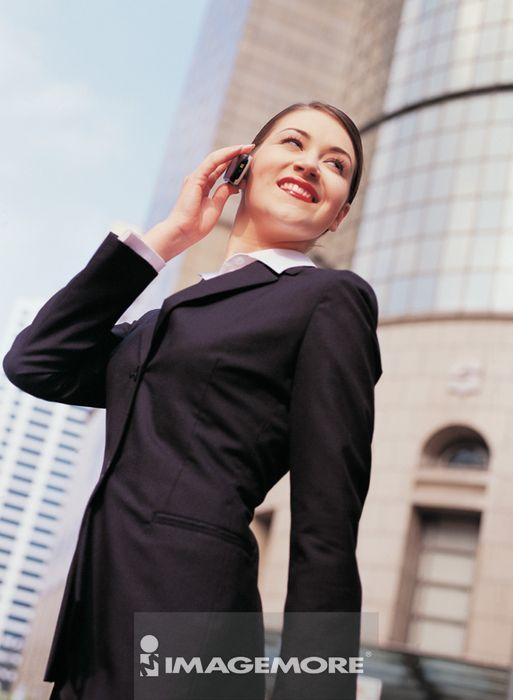talk: (164, 121, 350, 248)
